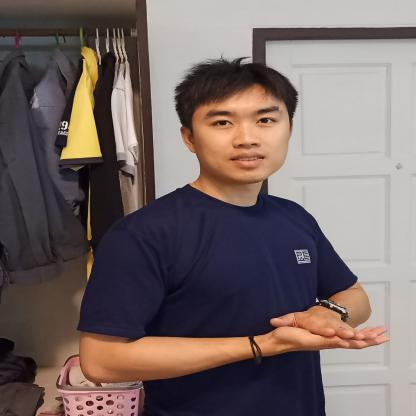Love: (228, 286, 396, 363)
